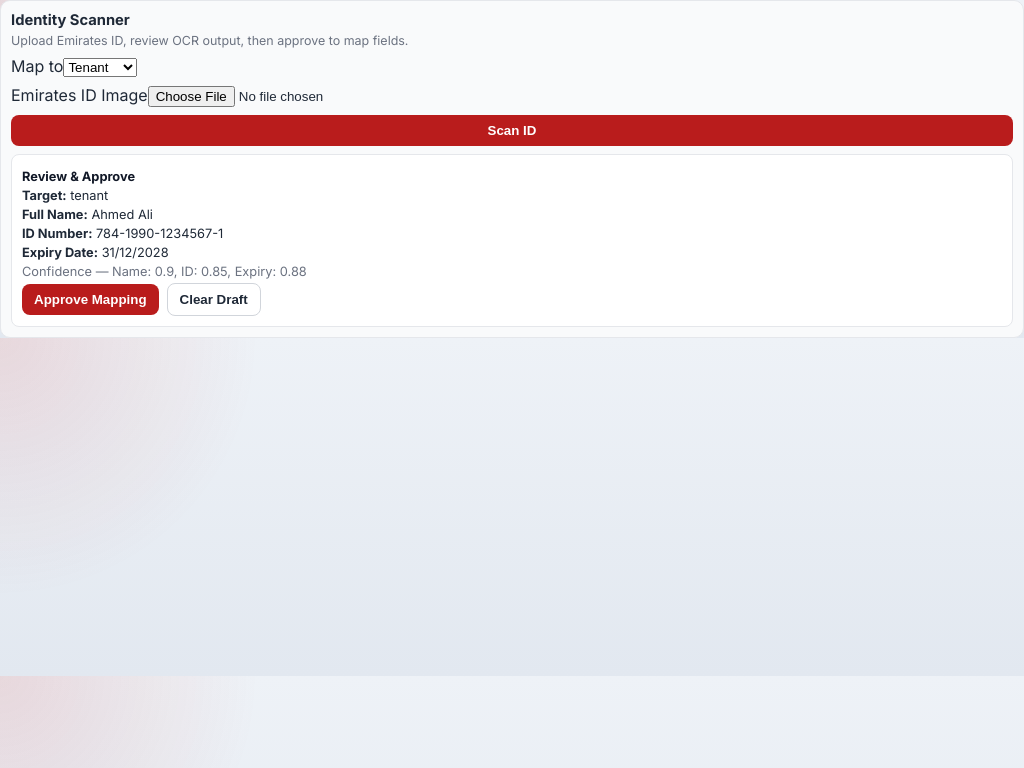
Test case: IdentityScanner — Clear Draft › hides the review card after clearing draft
The width and height of the screenshot is (1024, 768).
Step 1. Click the button "Clear Draft" → {"x": 214, "y": 300}, box [167,283,261,316]
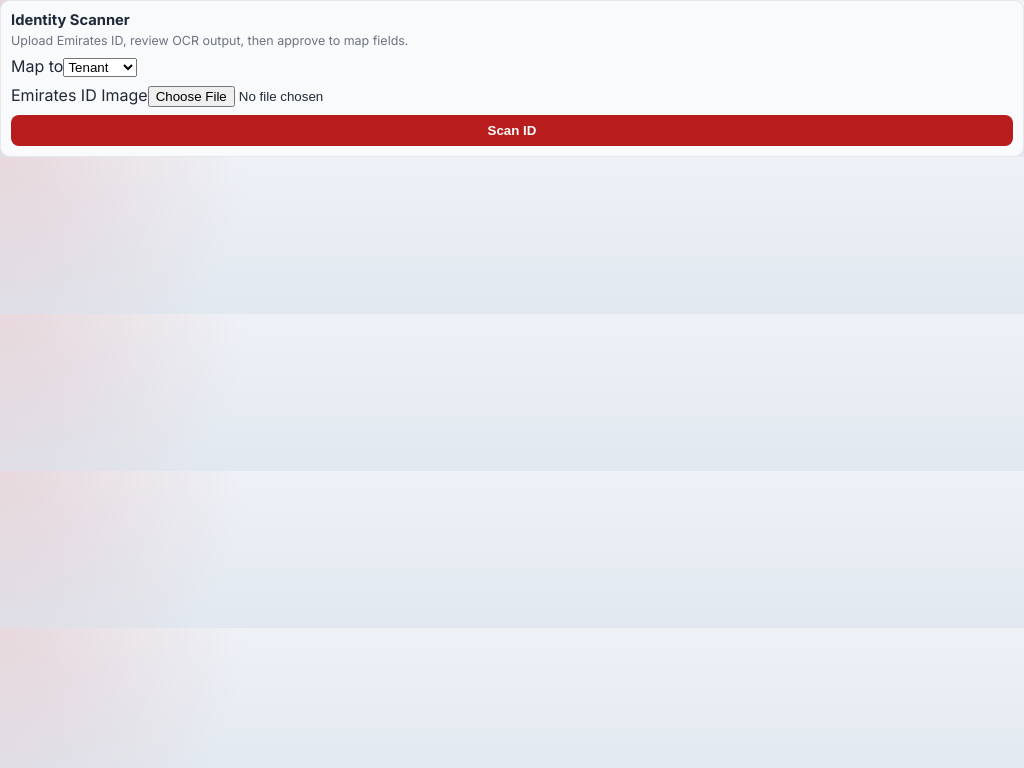
Result: the text "Review & Approve" is gone
